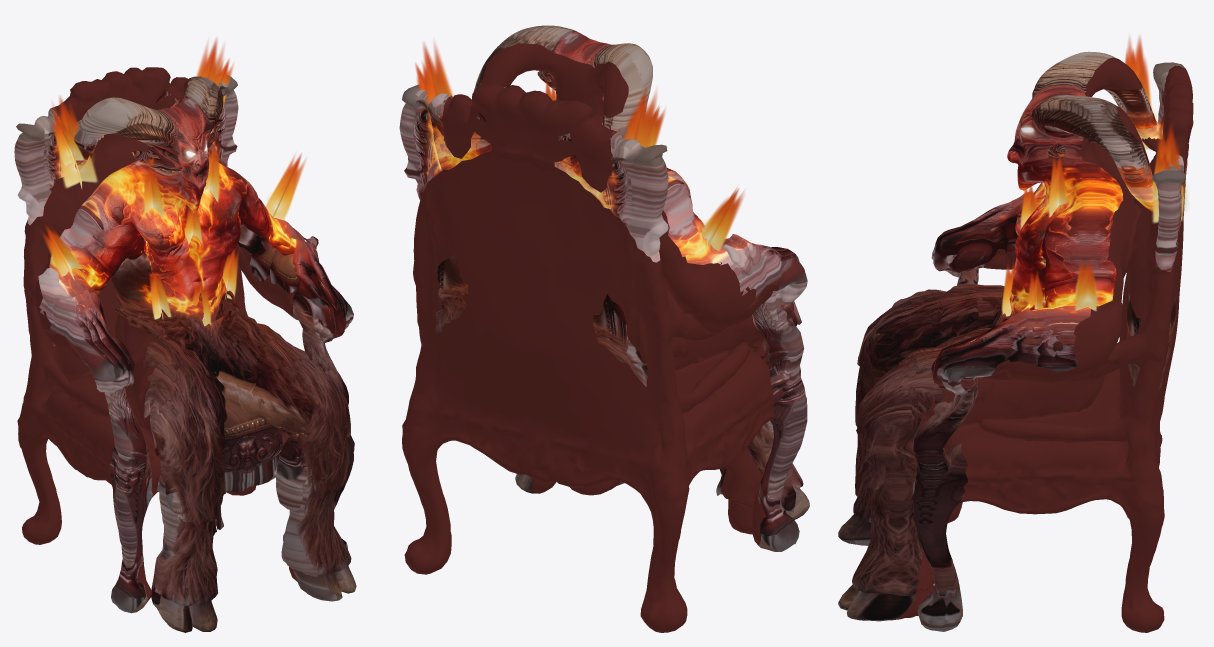
Rendered from devil-web.glb.
The picture shows the model from 3 angles, left to right: view 1: azimuth 30°, elevation 25°; view 2: azimuth 150°, elevation 25°; view 3: azimuth 270°, elevation 25°; orthographic projection. The views are drawn at different scales.
Parts seen in each view (by area): view 1: devil, flame_0, flame_8, flame_7, flame_2, flame_1, flame_4, flame_9, flame_5, flame_11; view 2: devil, flame_1, flame_7, flame_0; view 3: devil, flame_1, flame_8, flame_0, flame_5.
Boxes of the visible parts, left/top/right/bottom form: devil: left=14, top=67, right=356, bottom=632; flame_0: left=52, top=96, right=97, bottom=188; flame_8: left=265, top=154, right=305, bottom=220; flame_7: left=42, top=225, right=82, bottom=280; flame_2: left=51, top=116, right=84, bottom=166; flame_1: left=196, top=38, right=223, bottom=133; flame_4: left=144, top=164, right=163, bottom=218; flame_9: left=149, top=272, right=171, bottom=319; flame_5: left=204, top=141, right=219, bottom=201; flame_11: left=222, top=249, right=238, bottom=299; devil: left=399, top=25, right=809, bottom=632; flame_1: left=423, top=43, right=453, bottom=170; flame_7: left=699, top=188, right=743, bottom=250; flame_0: left=623, top=88, right=656, bottom=147; devil: left=838, top=51, right=1193, bottom=632; flame_1: left=1152, top=123, right=1187, bottom=223; flame_8: left=1075, top=260, right=1099, bottom=310; flame_0: left=1126, top=36, right=1157, bottom=149; flame_5: left=1048, top=154, right=1067, bottom=217.
Size of the model in its own units: 1.36 by 2 by 1.25.
Materials: 3 (3 with a texture image).
